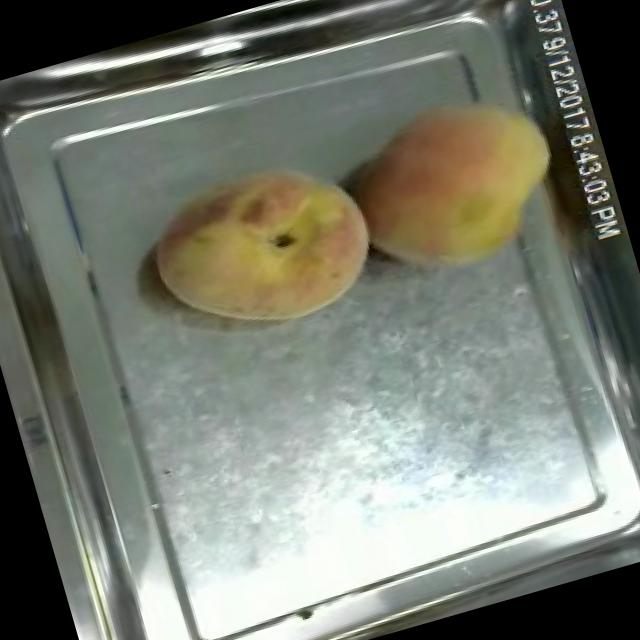Fruit: (130, 133, 396, 361), (333, 68, 590, 302)
